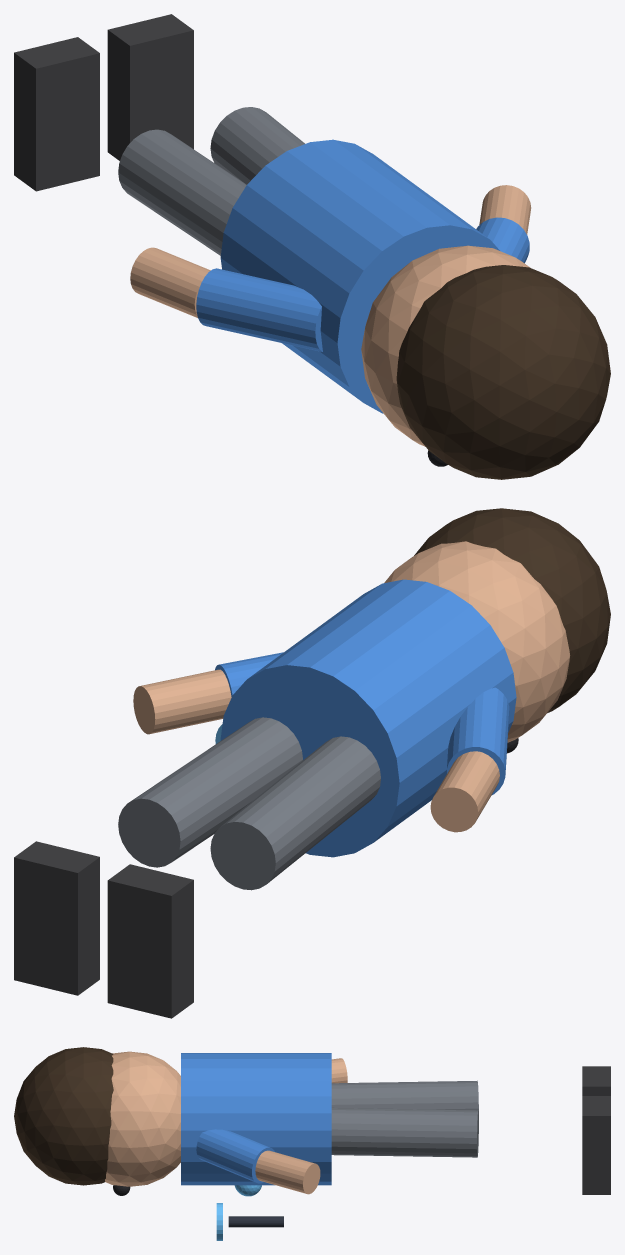
The model's file is Research_Buddy.glb.
3 renders of one model, top to bottom at view 1: azimuth 30°, elevation 25°; view 2: azimuth 150°, elevation 25°; view 3: azimuth 270°, elevation 25°, orthographic. The views are drawn at different scales.
Visible parts, largest first — view 1: hair, torso, shoe.L, shoe.R, leg.L, head, arm.L, leg.R, forearm.L, forearm.R, arm.R; view 2: torso, head, leg.L, leg.R, shoe.L, shoe.R, hair, forearm.R, forearm.L, arm.L, arm.R; view 3: torso, hair, head, leg.R, leg.L, shoe.R, arm.R, forearm.R, shoe.L, magnifier_handle, forearm.L.
Boxes of the visible parts, box(x1,y1,x2,y2) form: hair: box(396, 265, 610, 479); torso: box(220, 139, 499, 413); shoe.L: box(14, 37, 99, 191); shoe.R: box(107, 14, 193, 160); leg.L: box(118, 129, 246, 255); head: box(361, 245, 529, 446); arm.L: box(196, 268, 322, 351); leg.R: box(210, 107, 304, 184); forearm.L: box(130, 247, 210, 317); forearm.R: box(479, 185, 531, 234); arm.R: box(476, 217, 529, 263); torso: box(220, 579, 516, 857); head: box(384, 541, 570, 742); leg.L: box(210, 736, 380, 890); leg.R: box(118, 717, 302, 867); shoe.L: box(107, 864, 193, 1018); shoe.R: box(14, 841, 99, 995); hair: box(414, 508, 610, 712); forearm.R: box(133, 669, 231, 734); forearm.L: box(430, 751, 499, 832); arm.L: box(447, 687, 509, 794); arm.R: box(215, 652, 283, 696); torso: box(181, 1053, 331, 1185); hair: box(14, 1047, 113, 1185); head: box(105, 1051, 180, 1186); leg.R: box(331, 1107, 478, 1157); leg.L: box(331, 1080, 478, 1115); shoe.R: box(582, 1096, 610, 1194); arm.R: box(196, 1129, 274, 1183); forearm.R: box(255, 1150, 320, 1194); shoe.L: box(582, 1066, 610, 1095); magnifier_handle: box(228, 1216, 283, 1227); forearm.L: box(331, 1058, 347, 1083).
Bounding box in the file's own units: 1.75 × 0.99 × 3.77.
